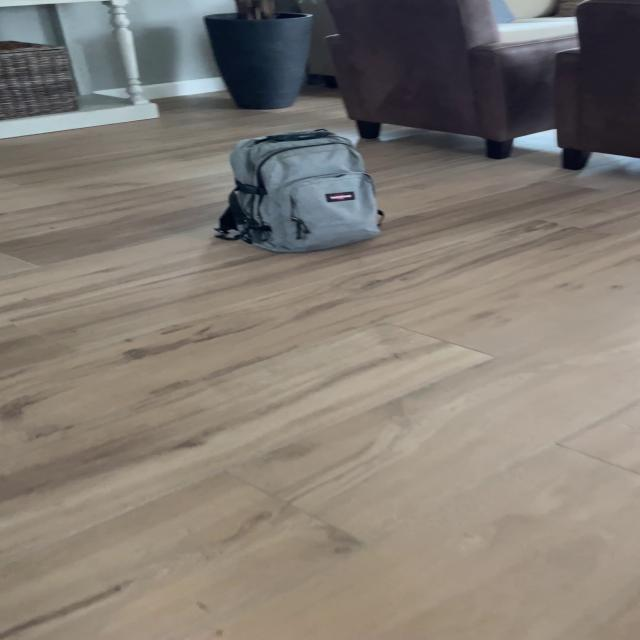backpack: (207, 124, 389, 258)
